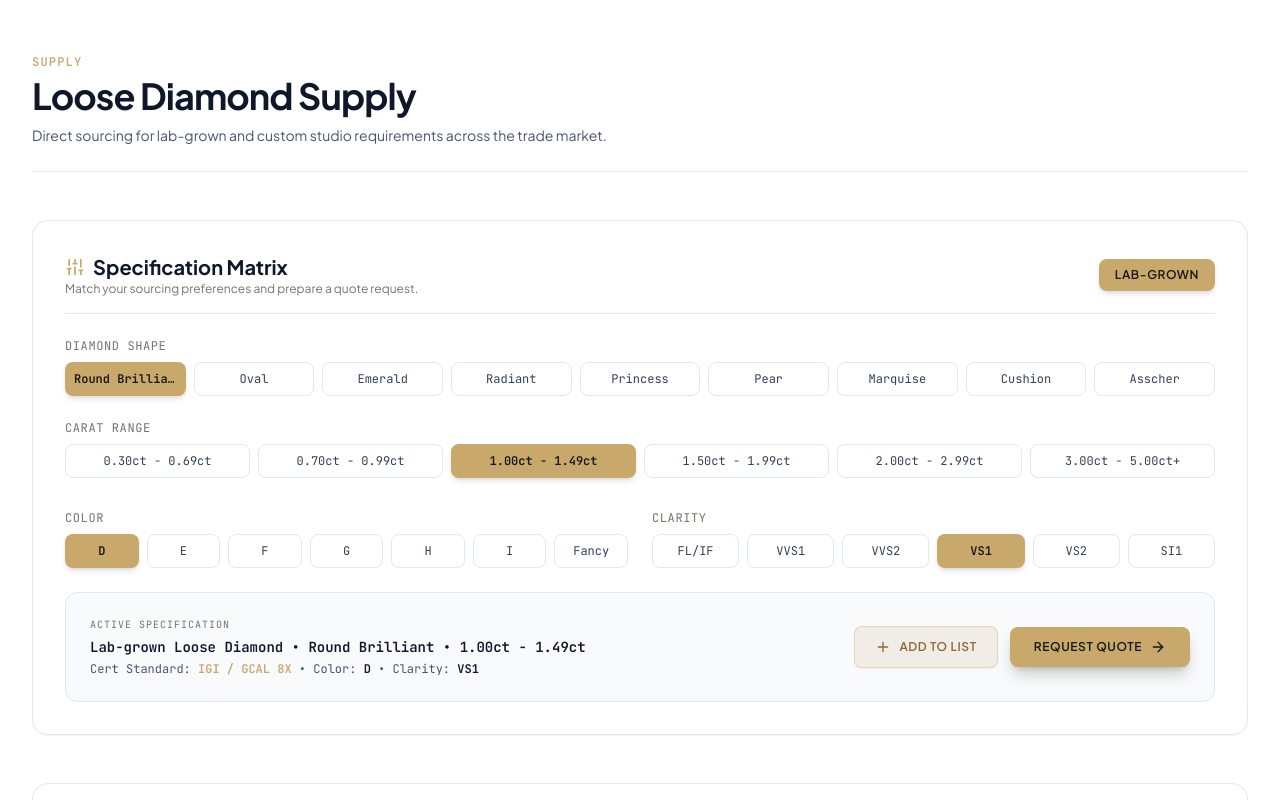
Official B2B Quote Request Comprehensive Test Suite Across All Pages & Modes › case 8: SupplyPage single spec quote button prefills category in QuoteModal
// Click first single spec quote button
Click the button "Request Quote": (1100, 647) [1010,627,1190,667]
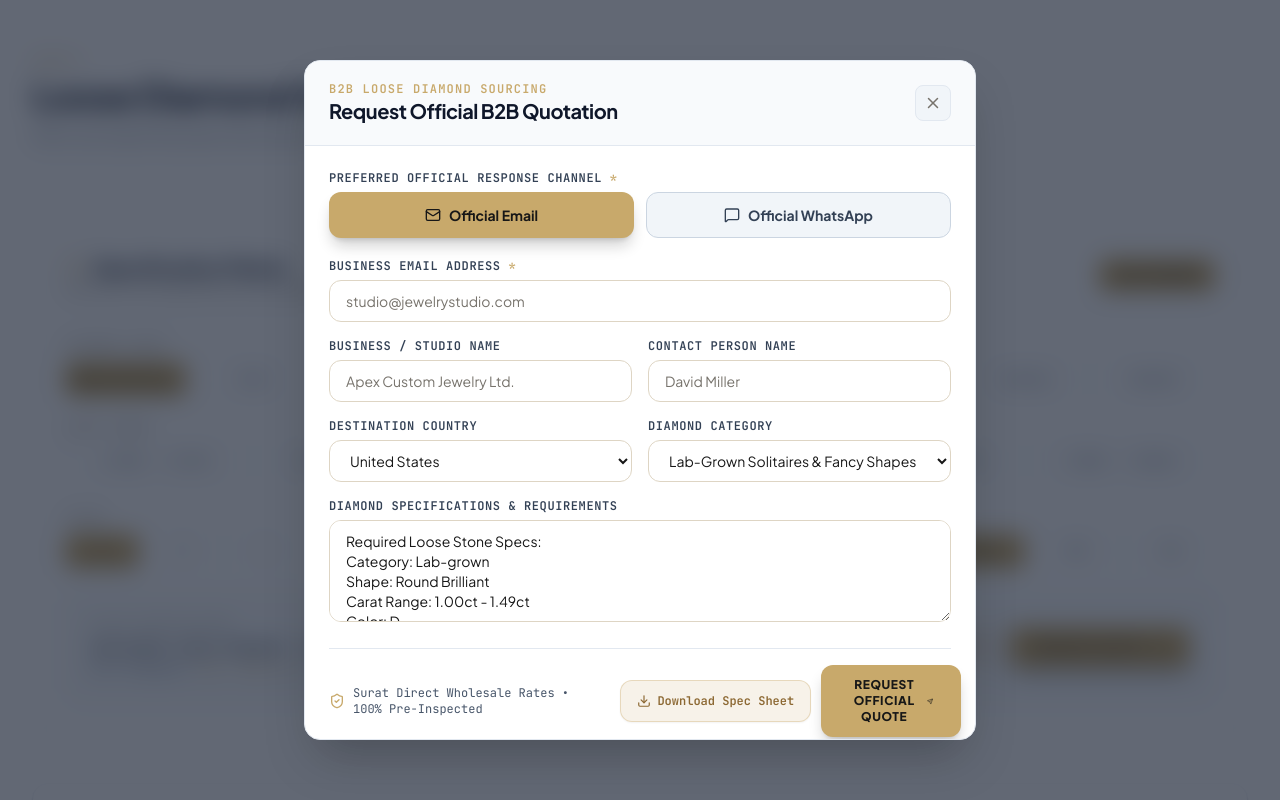
Expected: the heading "Request Official B2B Quotation" is shown, [329,97,618,125]
